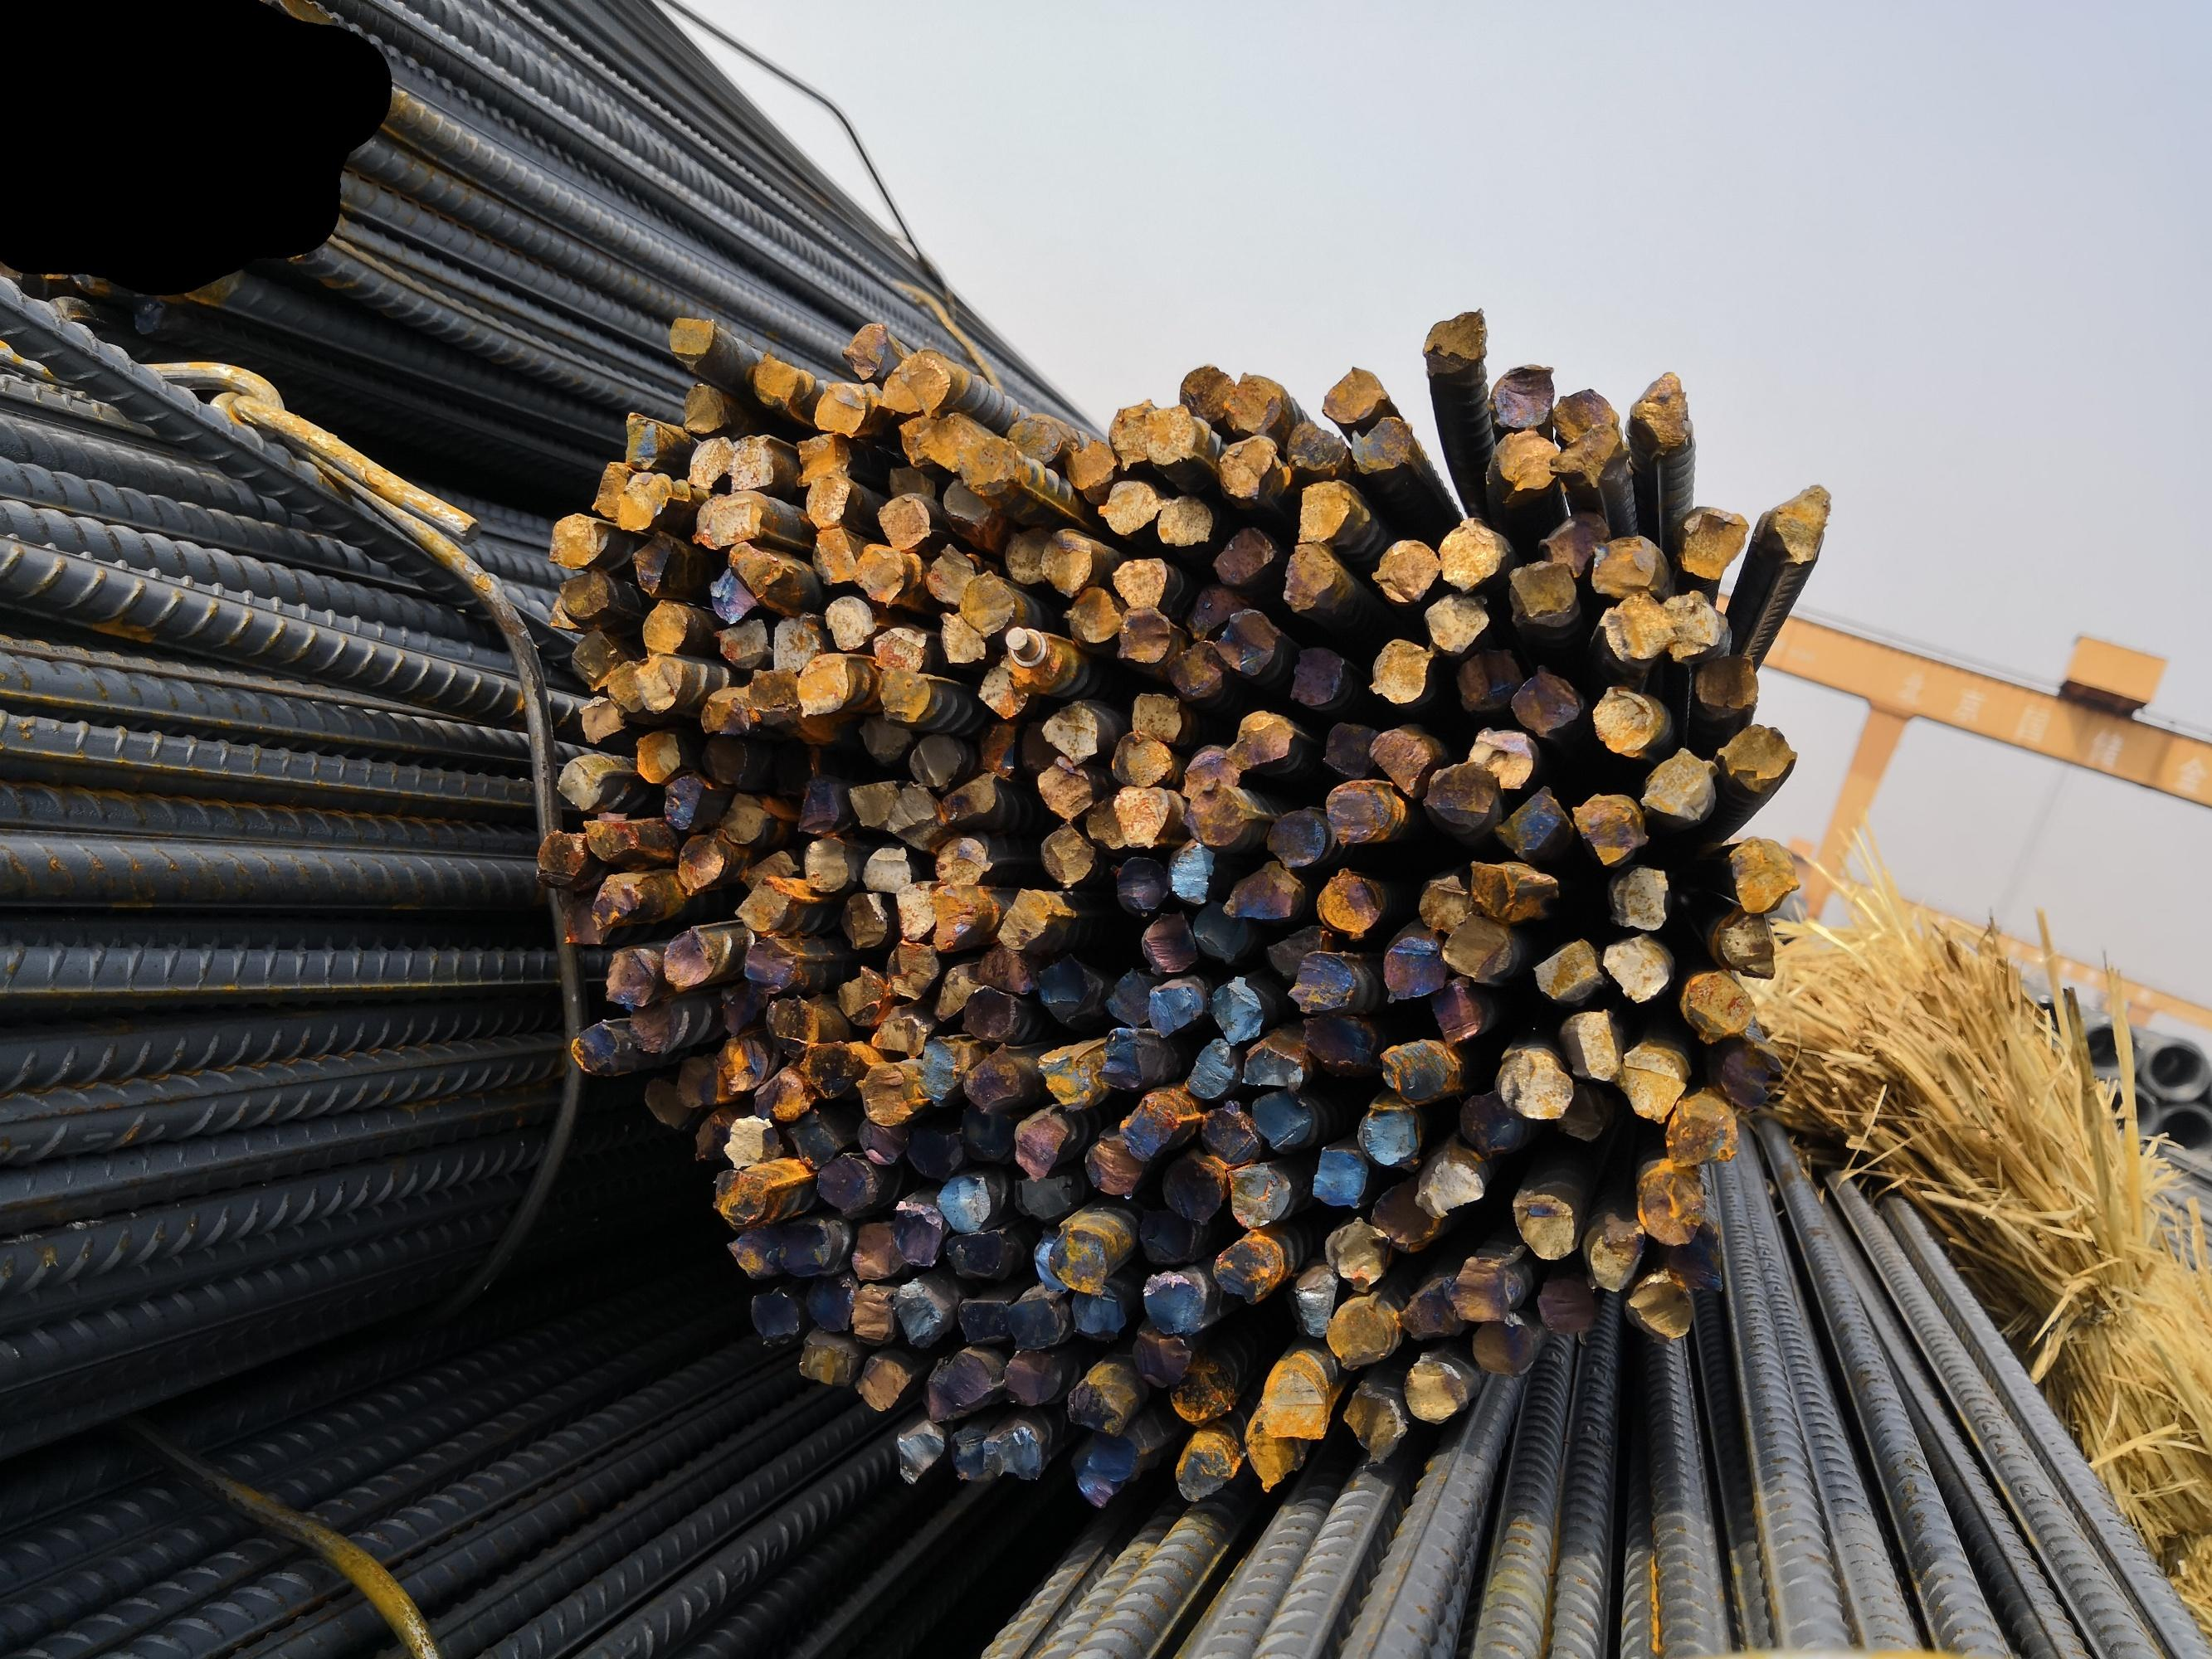bar: (1717, 711, 1804, 791), (1639, 739, 1719, 823), (1727, 829, 1802, 915), (1497, 1044, 1578, 1122), (1253, 1361, 1328, 1445), (1623, 1035, 1691, 1126), (1598, 584, 1677, 660), (1680, 967, 1757, 1044), (1030, 945, 1105, 1023), (1436, 910, 1515, 985), (1339, 1382, 1408, 1466), (1768, 477, 1834, 565), (1569, 791, 1647, 864), (1469, 857, 1558, 922), (1680, 497, 1750, 579), (1211, 1227, 1283, 1305), (1510, 660, 1581, 739), (1241, 1406, 1309, 1488), (1325, 1293, 1398, 1368), (1436, 511, 1504, 591), (1630, 368, 1696, 450), (1222, 859, 1306, 924), (1626, 1269, 1700, 1342), (1069, 1438, 1143, 1509), (1591, 681, 1659, 760), (1510, 1182, 1578, 1260), (877, 345, 952, 415), (1637, 1169, 1705, 1246), (1379, 1037, 1457, 1103), (1539, 505, 1611, 577), (1325, 777, 1394, 850), (1586, 532, 1661, 599), (1506, 558, 1581, 626), (1713, 1035, 1781, 1110), (1464, 723, 1536, 793), (1138, 1267, 1211, 1335), (1370, 1175, 1438, 1248), (1321, 1215, 1388, 1290), (1159, 1147, 1222, 1225), (1419, 301, 1489, 371), (1457, 1087, 1527, 1157), (1485, 361, 1557, 429), (1663, 1107, 1745, 1166), (1421, 587, 1494, 653), (1426, 760, 1499, 826), (1450, 1251, 1517, 1324), (1401, 1349, 1468, 1422), (1661, 1220, 1724, 1297), (1370, 537, 1440, 605), (1178, 777, 1248, 845), (1314, 864, 1382, 934), (1553, 422, 1625, 488), (1492, 422, 1558, 493), (1536, 932, 1602, 1004), (1379, 931, 1445, 1002), (1286, 950, 1358, 1016), (1168, 1364, 1241, 1429), (1600, 934, 1668, 1002), (1213, 605, 1279, 674), (1368, 725, 1435, 795), (1415, 1152, 1487, 1216), (1227, 1157, 1290, 1230), (1424, 969, 1485, 1044), (811, 1143, 877, 1211), (1469, 1312, 1537, 1378), (1368, 638, 1433, 708), (1032, 751, 1095, 823), (1457, 641, 1520, 713), (1304, 1007, 1375, 1070), (1665, 584, 1720, 664), (1049, 1222, 1110, 1295), (1497, 784, 1558, 857), (1564, 1007, 1625, 1080), (793, 648, 851, 723), (1586, 1220, 1642, 1297), (1349, 410, 1414, 476), (1694, 648, 1761, 713), (1198, 1096, 1260, 1164), (1292, 477, 1354, 545), (1210, 525, 1278, 587), (1356, 1101, 1419, 1169), (960, 1042, 1021, 1112), (1082, 1129, 1143, 1199), (955, 568, 1016, 638), (1227, 709, 1297, 770), (1138, 1197, 1196, 1270), (708, 1166, 772, 1230), (1171, 1441, 1236, 1506), (1002, 626, 1067, 690), (1410, 871, 1475, 936), (1189, 894, 1252, 960), (1217, 436, 1279, 502), (1309, 1141, 1372, 1208), (723, 535, 784, 603), (1722, 906, 1776, 983), (797, 1269, 856, 1338), (1279, 540, 1337, 612), (1060, 580, 1123, 645), (1222, 369, 1285, 434), (1112, 782, 1173, 849), (1321, 366, 1388, 427), (1553, 385, 1619, 446), (1609, 864, 1670, 931), (1252, 1086, 1313, 1152), (1138, 908, 1198, 976), (931, 1344, 994, 1406), (1001, 1345, 1063, 1408), (1318, 716, 1381, 779), (1534, 1272, 1597, 1335), (955, 429, 1016, 493), (1117, 1098, 1182, 1159), (1110, 852, 1171, 917), (1114, 601, 1175, 666), (1265, 805, 1327, 870), (1039, 697, 1098, 763), (1014, 1107, 1067, 1182), (1039, 817, 1095, 887), (1210, 969, 1264, 1040), (1037, 525, 1091, 596), (601, 943, 662, 1006), (892, 1199, 945, 1272), (1063, 1375, 1126, 1436), (915, 410, 974, 474), (1034, 1049, 1098, 1108), (997, 885, 1056, 950), (1398, 1276, 1455, 1342), (765, 606, 821, 674), (671, 826, 727, 894), (753, 1061, 814, 1122), (732, 875, 795, 934), (1109, 728, 1171, 788), (1177, 359, 1236, 422), (1293, 1260, 1339, 1342), (856, 1061, 913, 1126), (854, 1349, 912, 1413), (1184, 582, 1248, 640), (1288, 643, 1346, 708), (929, 880, 980, 953), (568, 622, 622, 690), (917, 1354, 971, 1422), (948, 1420, 1002, 1488), (933, 1171, 994, 1230), (1133, 1326, 1192, 1387), (1164, 638, 1225, 697), (1098, 476, 1159, 535), (708, 488, 765, 551), (934, 769, 997, 826), (763, 993, 821, 1056), (1143, 979, 1206, 1037), (1107, 392, 1154, 469), (906, 730, 962, 795), (980, 1424, 1044, 1480), (1184, 1035, 1238, 1101), (1142, 403, 1196, 469), (856, 538, 908, 606), (1006, 406, 1065, 465), (722, 1112, 781, 1171), (847, 1220, 906, 1279), (1154, 491, 1213, 551), (587, 873, 645, 934), (945, 1225, 1008, 1281), (1166, 835, 1215, 906), (879, 488, 933, 552), (833, 962, 887, 1026), (1241, 1039, 1306, 1093), (662, 925, 715, 992), (628, 530, 678, 598), (906, 1122, 966, 1180), (772, 1218, 830, 1277), (704, 563, 760, 624), (821, 592, 877, 653), (964, 981, 1020, 1042), (884, 934, 938, 997), (743, 931, 797, 993), (894, 1276, 941, 1347), (885, 781, 936, 847), (793, 430, 851, 488), (697, 680, 755, 737), (713, 789, 770, 847), (797, 1333, 854, 1391), (622, 995, 678, 1054), (744, 1288, 800, 1347), (1126, 687, 1185, 742), (1110, 552, 1170, 608), (1267, 920, 1327, 976), (532, 826, 586, 887), (1178, 742, 1239, 796), (612, 469, 664, 532), (1025, 1227, 1072, 1297), (804, 1033, 854, 1098), (715, 613, 770, 671), (952, 1291, 1009, 1347), (892, 1425, 947, 1485), (633, 648, 680, 716), (546, 509, 598, 570), (715, 1032, 767, 1093), (1013, 1171, 1074, 1223), (920, 544, 973, 605), (798, 831, 849, 894), (1285, 422, 1347, 472), (748, 664, 797, 728), (917, 1033, 960, 1105), (722, 1225, 777, 1281), (812, 380, 866, 437), (838, 321, 891, 380), (556, 570, 615, 622), (570, 1016, 622, 1075), (1004, 1297, 1063, 1349), (725, 432, 776, 493), (640, 594, 690, 655), (1098, 1023, 1143, 1091), (697, 732, 751, 788), (1070, 1283, 1126, 1337), (1062, 436, 1114, 493), (580, 814, 640, 864), (840, 889, 891, 948), (1107, 965, 1157, 1025), (976, 660, 1027, 720), (1557, 1080, 1607, 1140), (866, 620, 927, 669), (601, 653, 648, 716), (933, 958, 980, 1021), (811, 521, 856, 586), (934, 835, 990, 887), (978, 943, 1034, 995), (739, 843, 797, 894), (872, 1007, 929, 1058), (936, 608, 987, 666), (880, 664, 929, 723), (553, 753, 601, 812), (791, 775, 840, 835), (1081, 789, 1130, 849), (1002, 521, 1046, 587), (587, 460, 634, 521), (938, 476, 990, 530), (859, 709, 912, 763), (631, 728, 682, 784), (858, 843, 913, 894), (786, 1114, 837, 1169), (852, 1115, 905, 1168), (575, 690, 626, 744), (845, 777, 899, 828), (964, 1103, 1014, 1157), (802, 474, 851, 530), (675, 1049, 722, 1107), (894, 878, 938, 939), (685, 434, 734, 488), (753, 349, 798, 406), (676, 382, 725, 434), (661, 774, 702, 833), (854, 1281, 892, 1345), (666, 314, 716, 362), (643, 1072, 689, 1126), (622, 410, 662, 471), (896, 413, 940, 469), (976, 716, 1014, 777), (692, 486, 723, 552), (695, 1108, 730, 1166), (885, 462, 934, 500)
